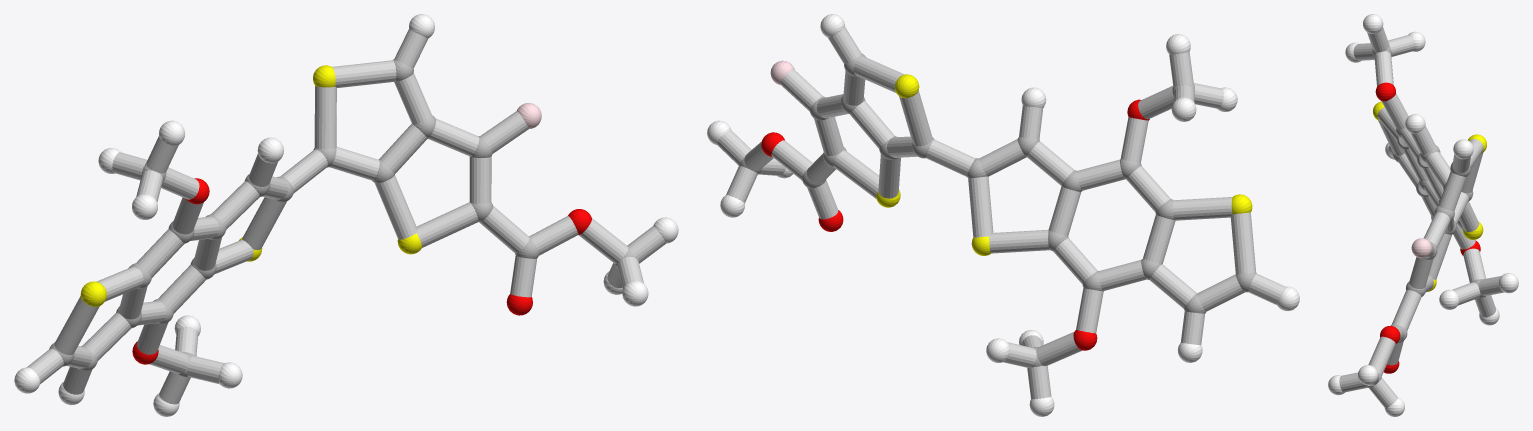
The model's file is Dimethoxy_Benzodithiophene_Phi_20_Theta_310_Methylcarbonyl_3_Fluoro_Thienothiophene.glb.
3 views of the same model, side by side, from view 1: azimuth 30°, elevation 25°; view 2: azimuth 150°, elevation 25°; view 3: azimuth 270°, elevation 25° (orthographic). The views are drawn at different scales.
Visible parts, largest first — view 1: grp15205, grp8689, grp1, grp7241, grp13395; view 2: grp15205, grp8689, grp1, grp7241, grp13395; view 3: grp15205, grp8689, grp1, grp13395, grp7241, grp14843.
Part boxes in pixels (bbox=[...]): grp15205: bbox=[26, 29, 665, 404]; grp8689: bbox=[14, 14, 678, 416]; grp1: bbox=[49, 59, 636, 377]; grp7241: bbox=[80, 65, 422, 306]; grp13395: bbox=[132, 178, 591, 364]; grp15205: bbox=[717, 27, 1284, 399]; grp8689: bbox=[707, 14, 1299, 416]; grp1: bbox=[739, 53, 1256, 367]; grp7241: bbox=[876, 74, 1252, 255]; grp13395: bbox=[761, 99, 1149, 350]; grp15205: bbox=[1339, 27, 1504, 407]; grp8689: bbox=[1328, 14, 1518, 416]; grp1: bbox=[1365, 45, 1485, 387]; grp13395: bbox=[1375, 82, 1480, 373]; grp7241: bbox=[1373, 101, 1486, 291]; grp14843: bbox=[1411, 238, 1431, 258].
Size of the model in its own units: 16.92 by 9.2 by 5.61.
